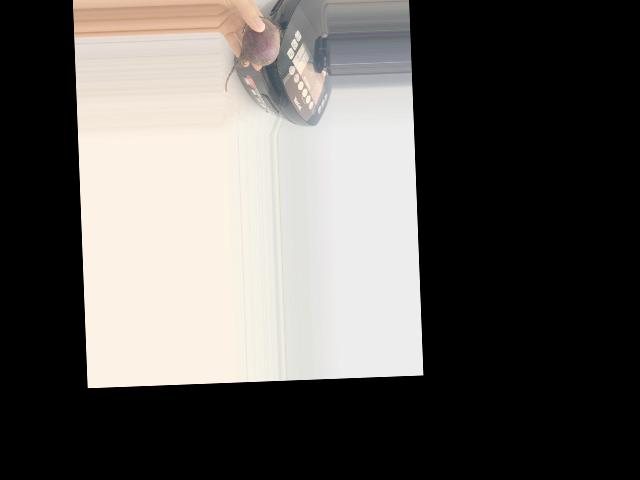beet: (222, 16, 284, 92)
